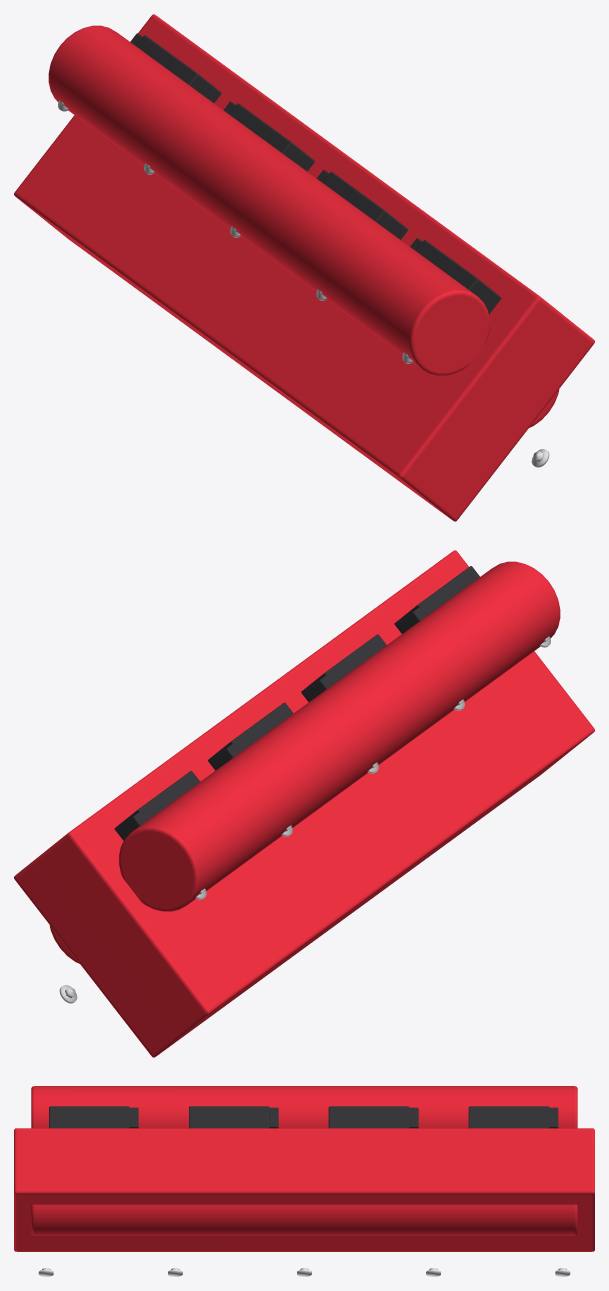
File: engine_v8_valvecover_r.glb
3 renders of one model, top to bottom at view 1: azimuth 30°, elevation 25°; view 2: azimuth 150°, elevation 25°; view 3: azimuth 270°, elevation 25°, orthographic. The views are drawn at different scales.
Parts seen in each view (by area): view 1: ValveCover_Right_Body, COP_Right_0, COP_Right_2, COP_Right_1, COP_Right_3; view 2: ValveCover_Right_Body, COP_Right_3, COP_Right_0, COP_Right_1, COP_Right_2; view 3: ValveCover_Right_Body, COP_Right_2, COP_Right_3, COP_Right_0, COP_Right_1.
Boxes of the visible parts, bbox=[...] form: ValveCover_Right_Body: bbox=[14, 14, 594, 521]; COP_Right_0: bbox=[410, 238, 501, 314]; COP_Right_2: bbox=[223, 101, 314, 171]; COP_Right_1: bbox=[317, 170, 408, 239]; COP_Right_3: bbox=[130, 33, 221, 102]; ValveCover_Right_Body: bbox=[14, 550, 594, 1057]; COP_Right_3: bbox=[114, 771, 200, 840]; COP_Right_0: bbox=[394, 566, 479, 633]; COP_Right_1: bbox=[301, 634, 386, 702]; COP_Right_2: bbox=[208, 702, 293, 770]; ValveCover_Right_Body: bbox=[14, 1086, 594, 1251]; COP_Right_2: bbox=[328, 1106, 418, 1128]; COP_Right_3: bbox=[468, 1106, 558, 1128]; COP_Right_0: bbox=[49, 1106, 138, 1128]; COP_Right_1: bbox=[189, 1106, 278, 1128].
Size of the model in its own units: 0.1572 by 0.1687 by 0.54.
